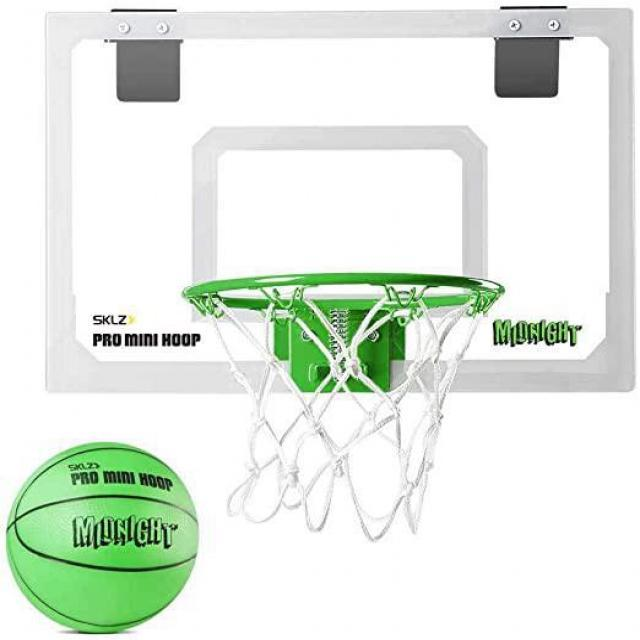Basketball: (9, 444, 200, 636)
hoop: (182, 272, 504, 540)
